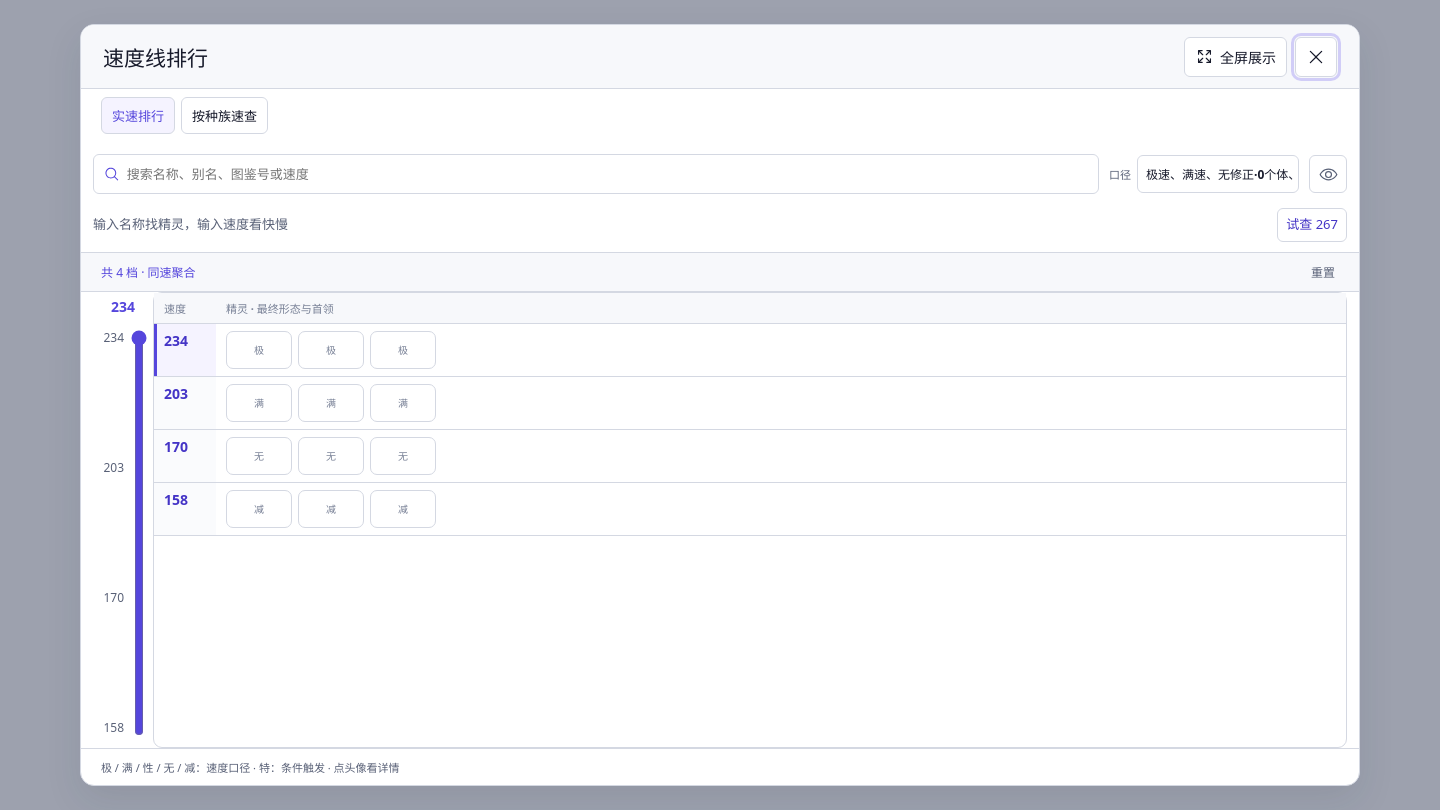
定位退出搜索并恢复完整榜单
The width and height of the screenshot is (1440, 810).
Type "水测试" into the field named "搜索速度榜精灵" at x=607, y=174, box [127, 156, 1088, 192]
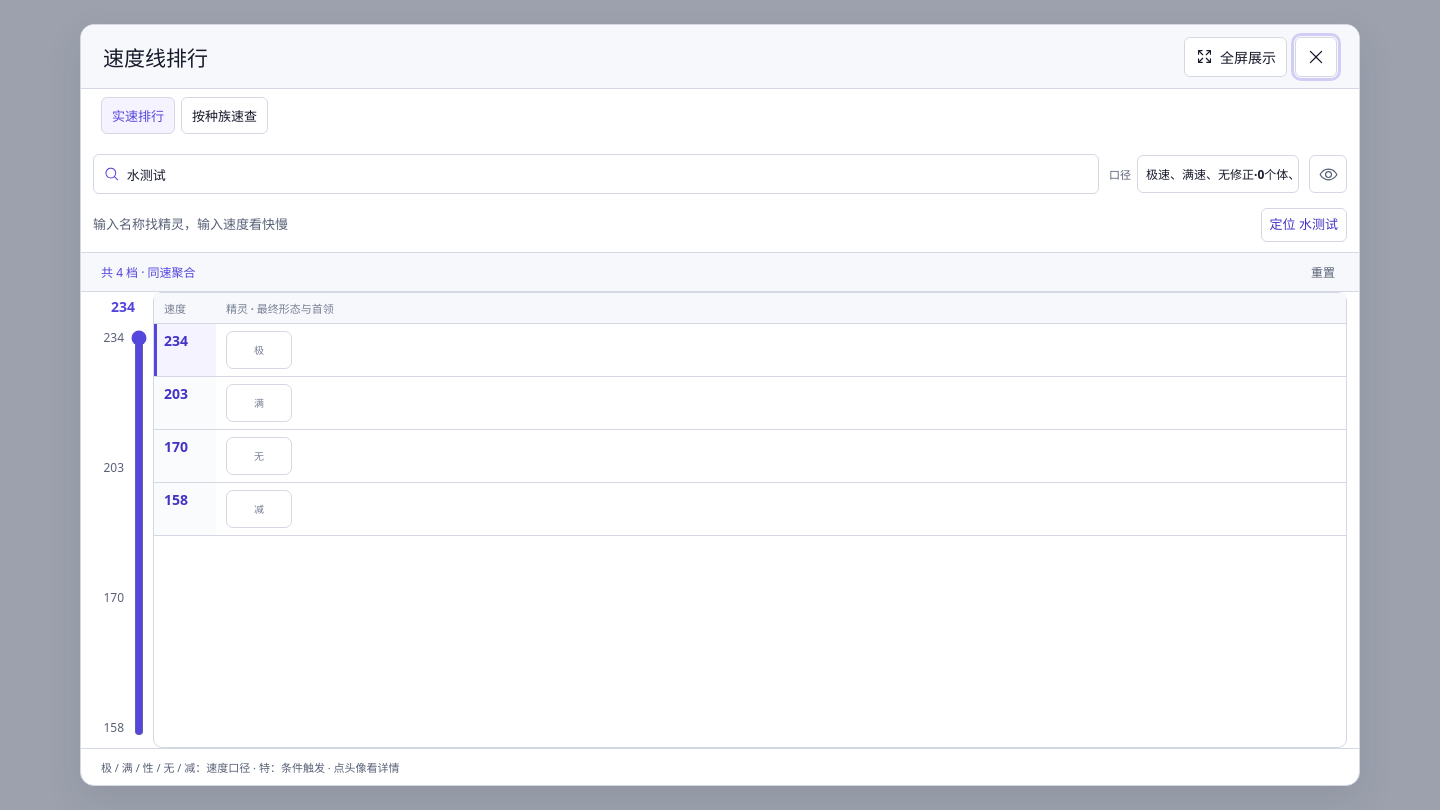
Click the button "定位 水测试" at x=1304, y=225, box [1261, 208, 1347, 242]
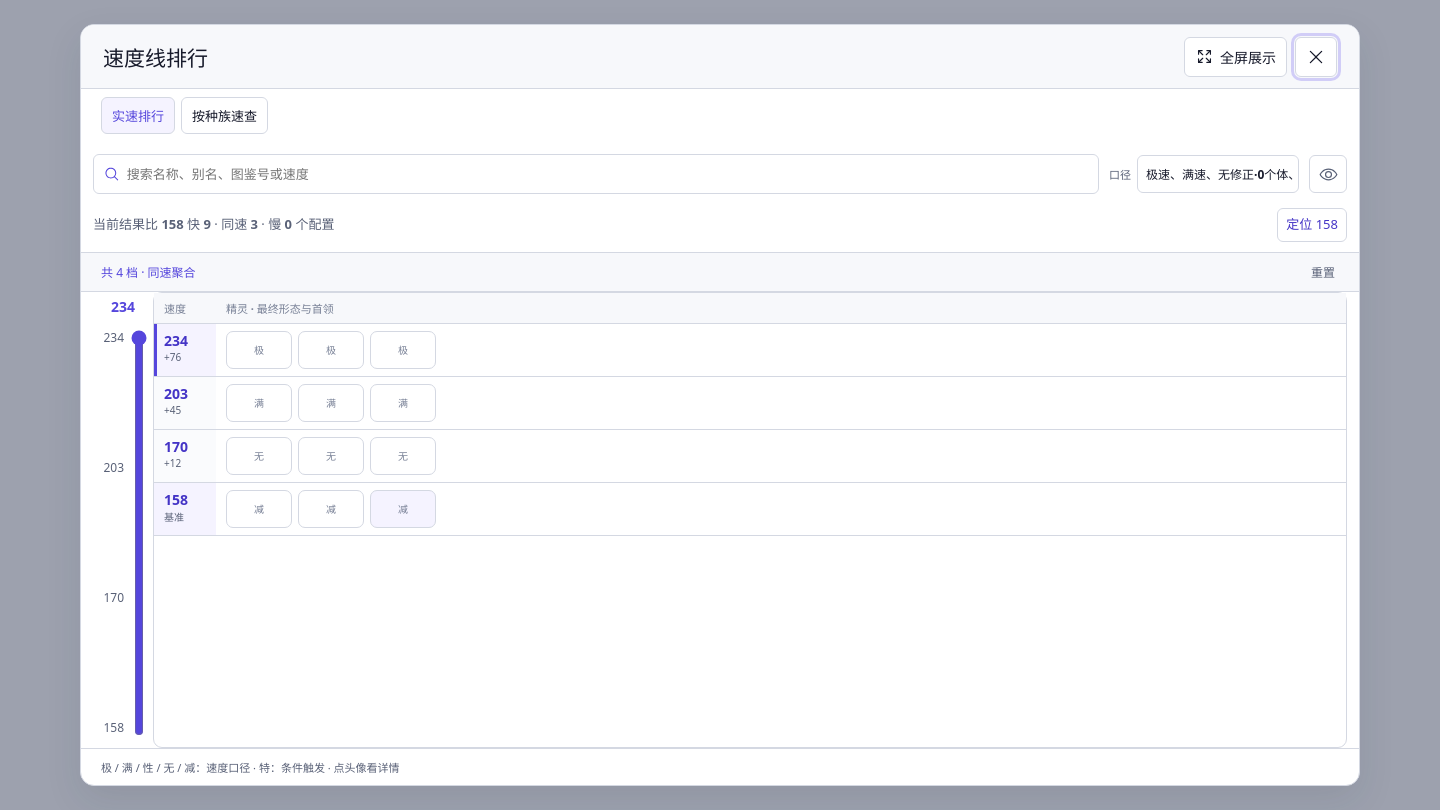
Expected: the number of buttons named "在速度表选择草测试" is 4, [226, 331, 292, 369]; [226, 384, 292, 422]; [226, 437, 292, 475]; [226, 490, 292, 528]
Now the field named "搜索速度榜精灵" is empty
Type "267" into the field named "搜索速度榜精灵" at x=607, y=174, box [127, 156, 1088, 192]
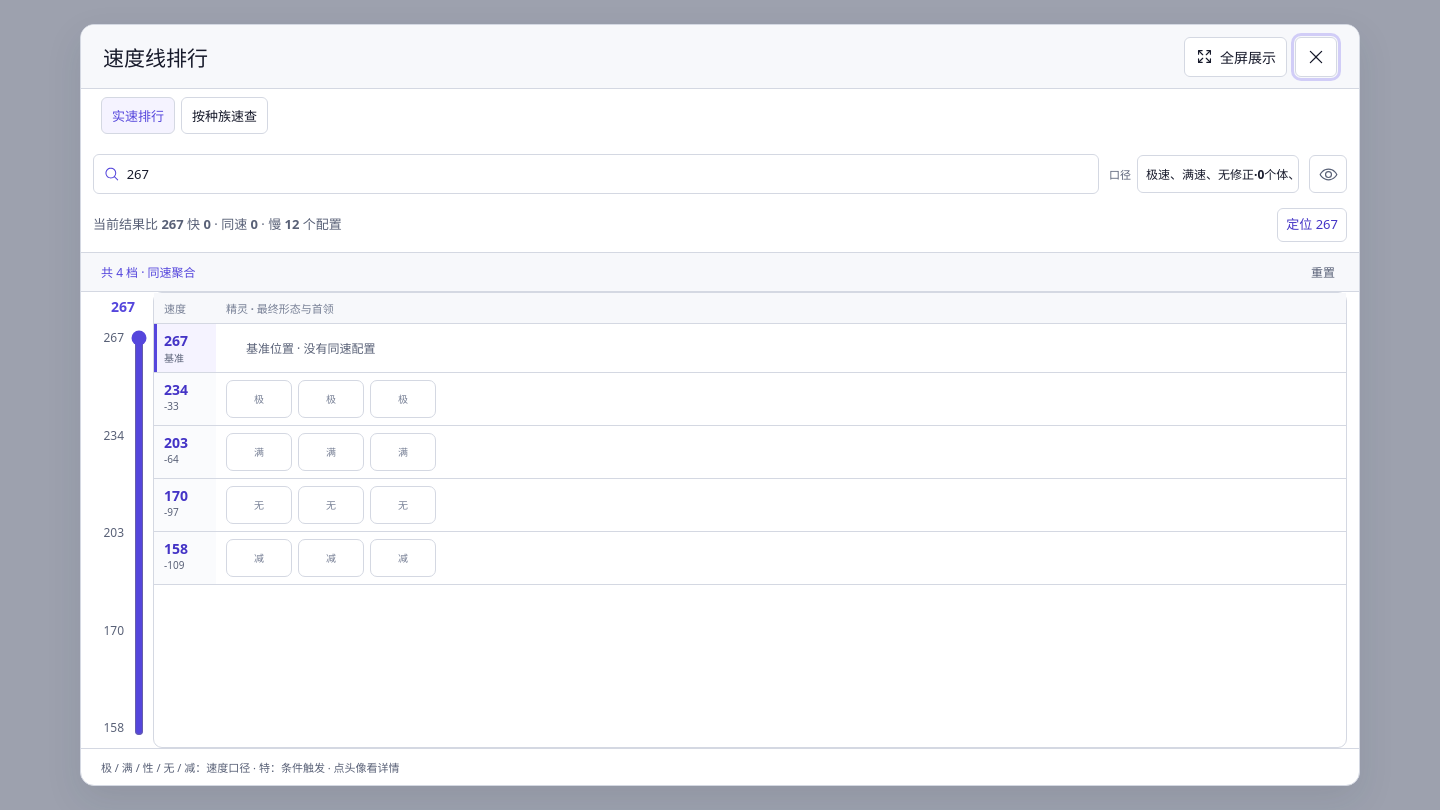
Click the button "定位 267" at x=1312, y=225, box [1277, 208, 1347, 242]
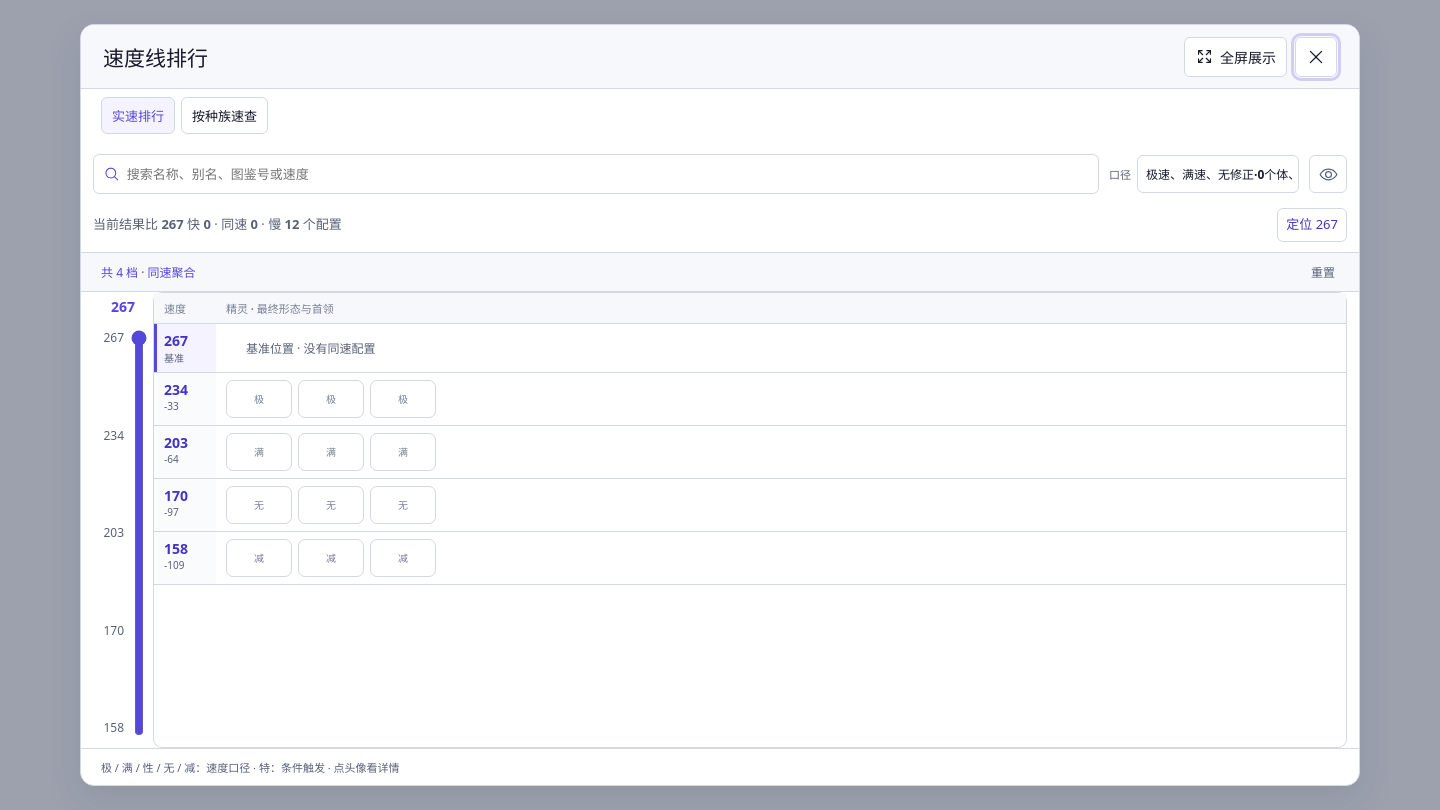
Now the text "基准位置 · 没有同速配置" is shown, box [246, 339, 376, 357]
Now the field named "搜索速度榜精灵" is empty, box [127, 156, 1088, 192]
